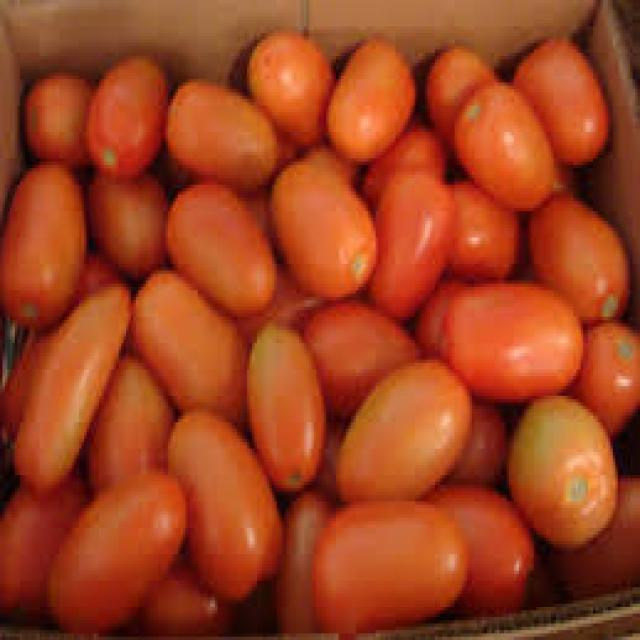Fresh_tomato: (54, 491, 193, 636), (323, 507, 472, 615), (165, 188, 284, 320), (244, 320, 326, 492), (464, 84, 560, 208), (448, 294, 586, 380), (388, 172, 454, 340), (10, 170, 82, 313), (338, 41, 414, 163), (91, 61, 174, 165)
